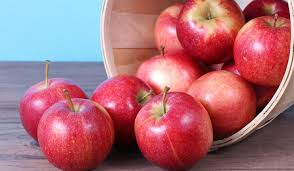apple: (139, 95, 214, 165), (90, 75, 164, 142), (40, 99, 111, 166), (177, 4, 248, 62), (18, 80, 85, 141), (236, 17, 292, 89), (136, 55, 207, 109), (189, 73, 256, 128)
